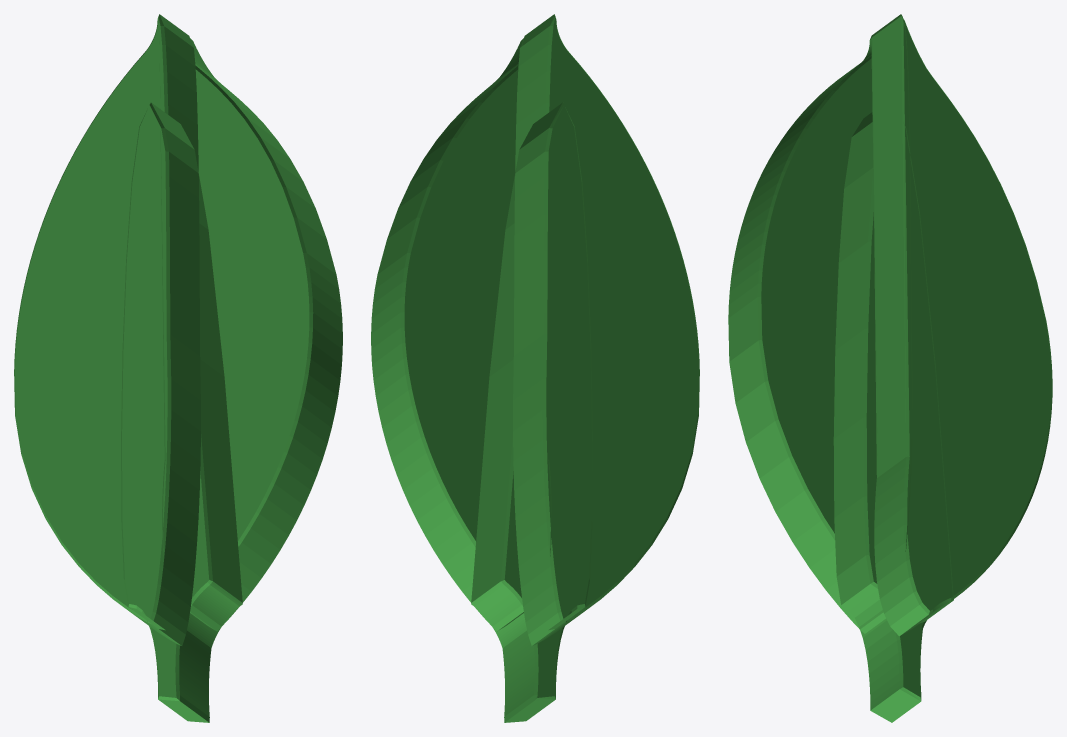
File: mongodb.glb
3 views of the same model, side by side, from view 1: azimuth 30°, elevation 25°; view 2: azimuth 150°, elevation 25°; view 3: azimuth 330°, elevation 25° (orthographic).
Bounding box in the file's own units: 1.36 × 3 × 0.2549.
